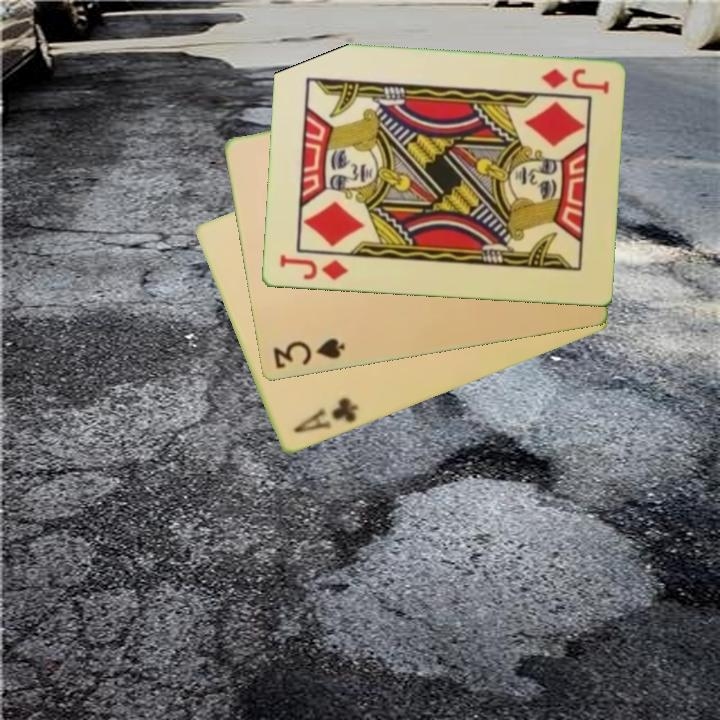3s: (269, 335, 348, 372)
Ac: (290, 394, 361, 437)
Jd: (276, 251, 350, 284), (537, 65, 611, 98)
